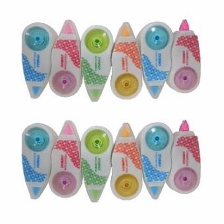correction_fluid: (19, 20, 61, 100), (134, 119, 175, 200), (134, 19, 174, 101), (44, 18, 84, 100), (19, 121, 60, 201), (162, 17, 203, 96), (45, 118, 84, 199), (162, 118, 203, 195), (106, 19, 144, 102), (79, 21, 116, 104), (106, 121, 143, 201), (77, 124, 114, 204)
